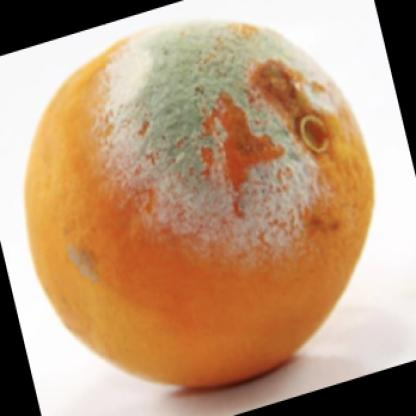rotten: (25, 24, 373, 387)
